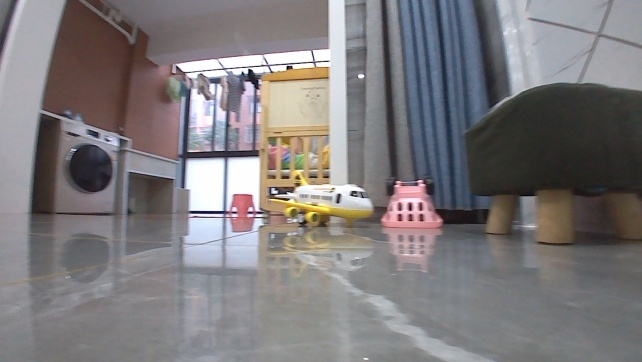sofa1: (459, 78, 641, 245)
washing_machine: (32, 116, 119, 217)
